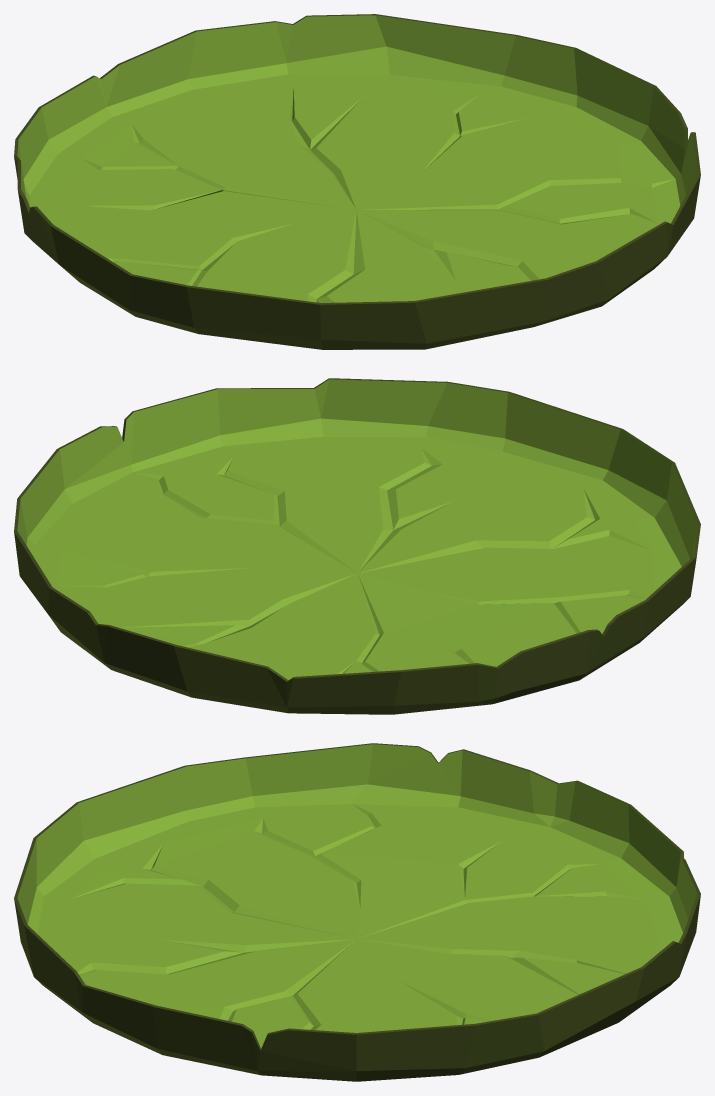
File: SM_Waterlily_Giant_Mature_B.fbx
3 renders of one model, top to bottom at view 1: azimuth 30°, elevation 25°; view 2: azimuth 150°, elevation 25°; view 3: azimuth 270°, elevation 25°, orthographic.
Visible parts, largest first — view 1: waterlily-giant-mature-b; view 2: waterlily-giant-mature-b; view 3: waterlily-giant-mature-b.
Boxes of the visible parts, bbox=[...] form: waterlily-giant-mature-b: bbox=[14, 14, 700, 349]; waterlily-giant-mature-b: bbox=[14, 378, 700, 714]; waterlily-giant-mature-b: bbox=[14, 743, 700, 1081].
Size of the model in its own units: 2.06 by 0.2019 by 2.05.
